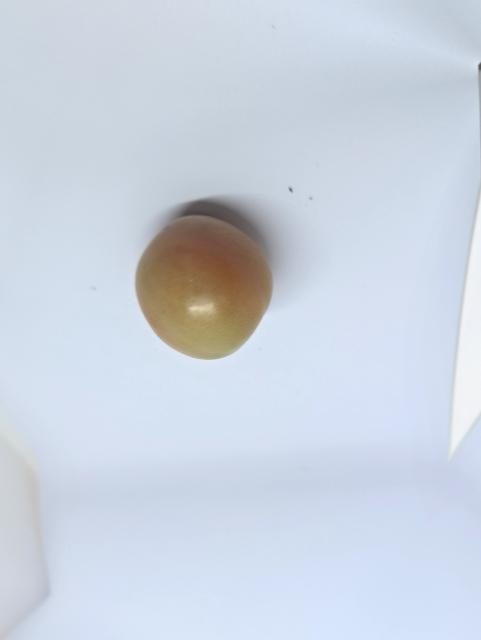turning: (124, 207, 282, 363)
